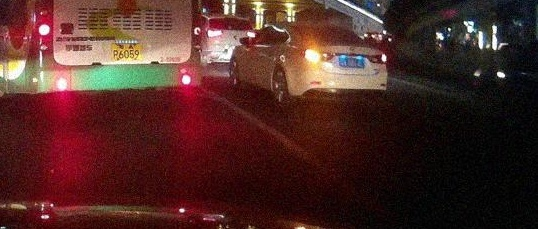L_light: (304, 48, 335, 63)
R_light: (367, 53, 388, 64)
T_light: (332, 30, 343, 32)
night-left: (299, 26, 388, 110)
